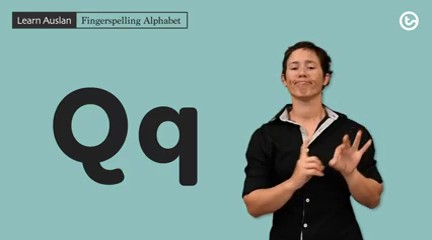Q: (286, 125, 377, 185)
